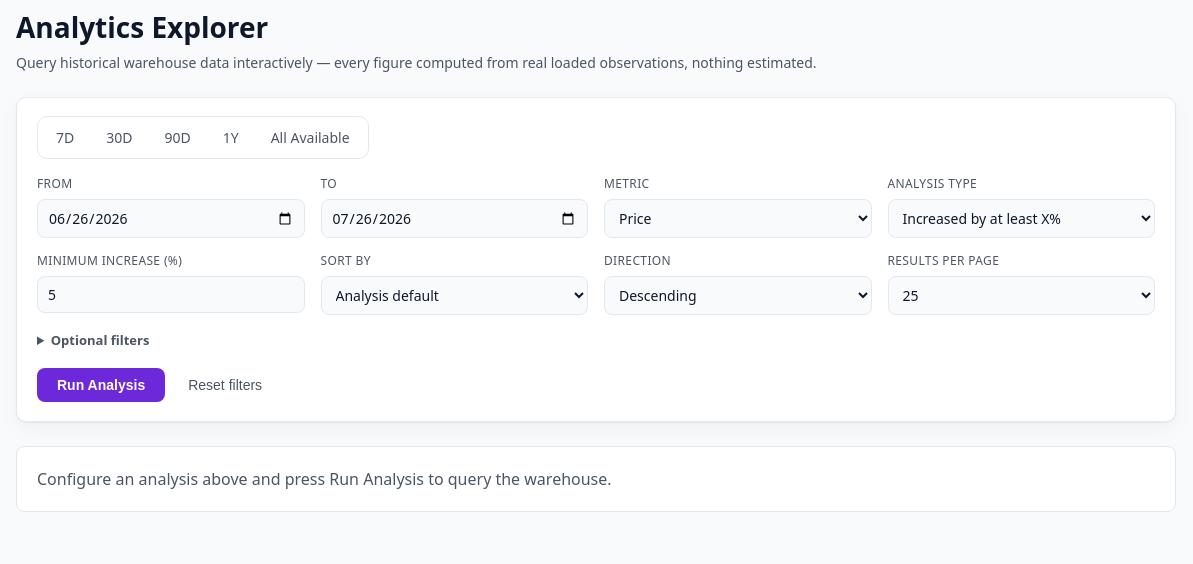
Test: AnalyticsExplorer › requires a threshold for threshold-based analyses
Clear the number field labelled "Minimum increase (%)": (171, 294) x1=37 y1=276 x2=304 y2=313
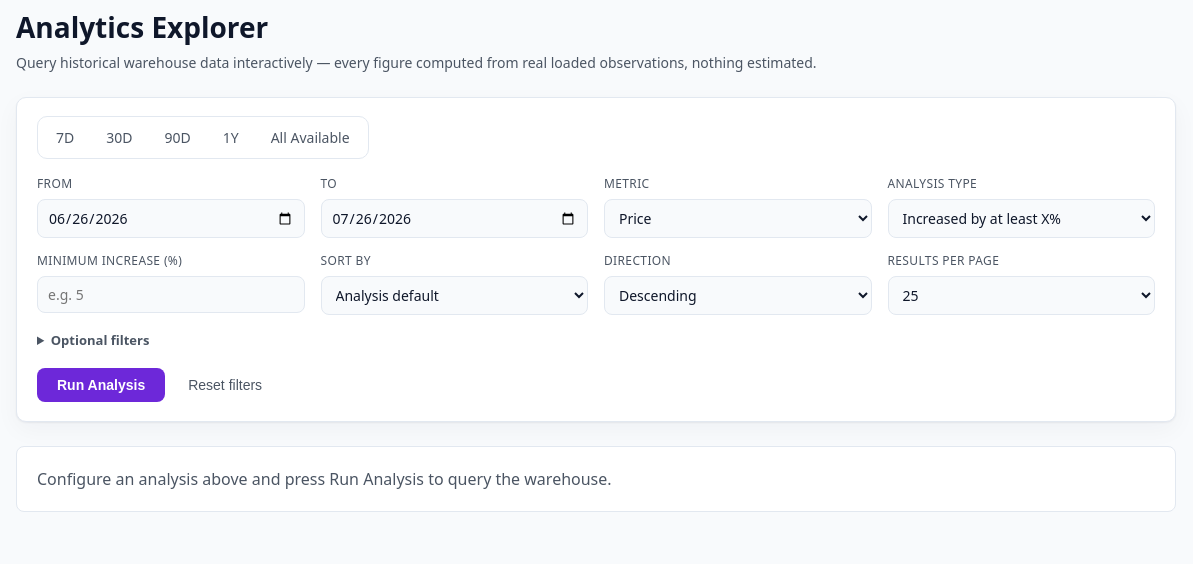
Click the button "Run Analysis": (101, 384) x1=37 y1=368 x2=165 y2=402
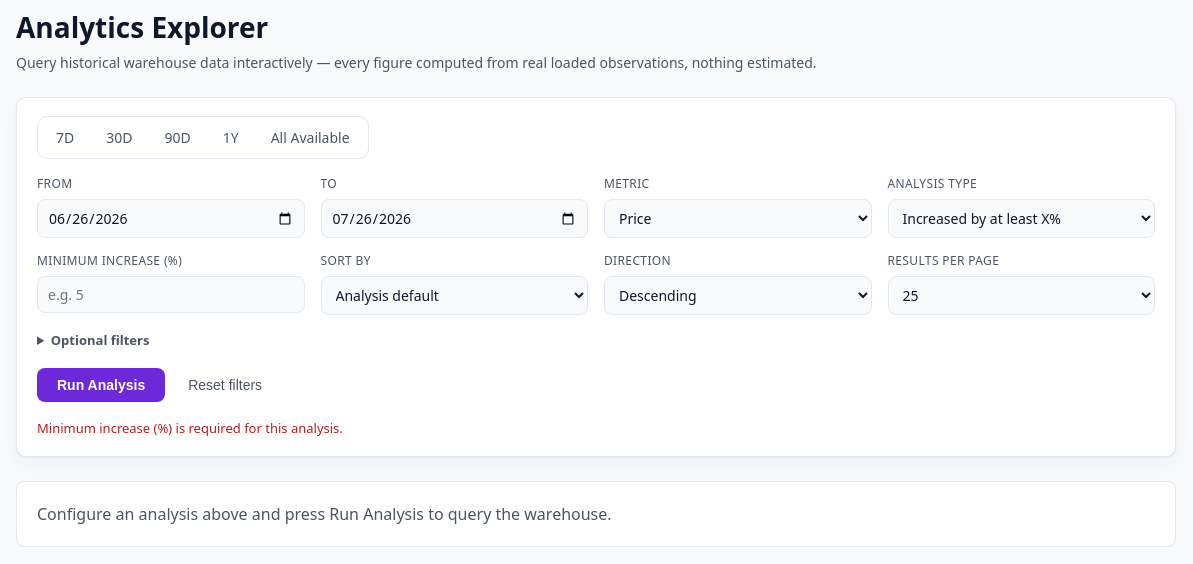
Now the message shows "required for this analysis", box x1=37 y1=418 x2=343 y2=436
